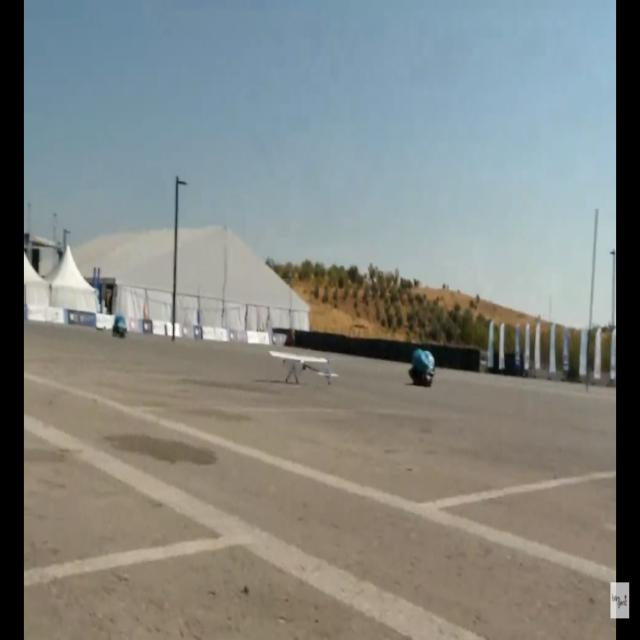iha: (303, 346, 305, 386)
